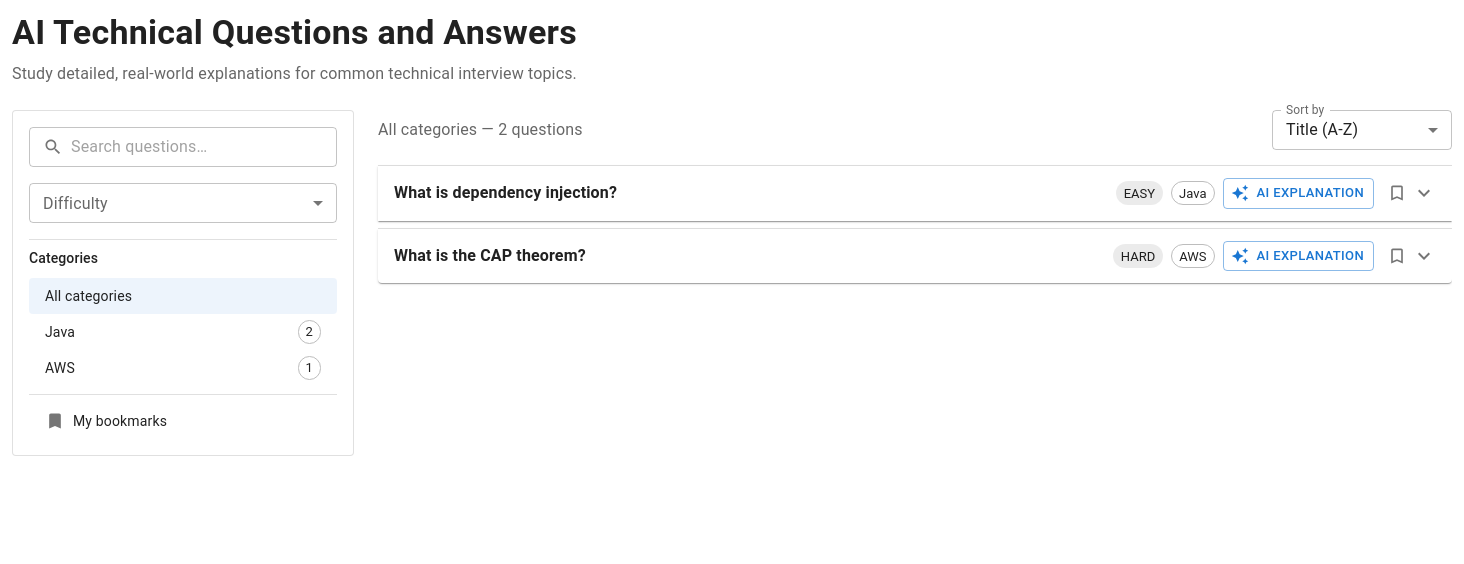
Test: AiQuestionsPage › fetches and reveals the detailed answer when AI Explanation is clicked
Expected: the text "What is dependency injection?" is shown, [394,183,617,202]
What coordinates should you click on to do the following:
click the 1st button "AI Explanation"
I would click on:
 (1298, 193)
Its box is [1222,178,1374,209].
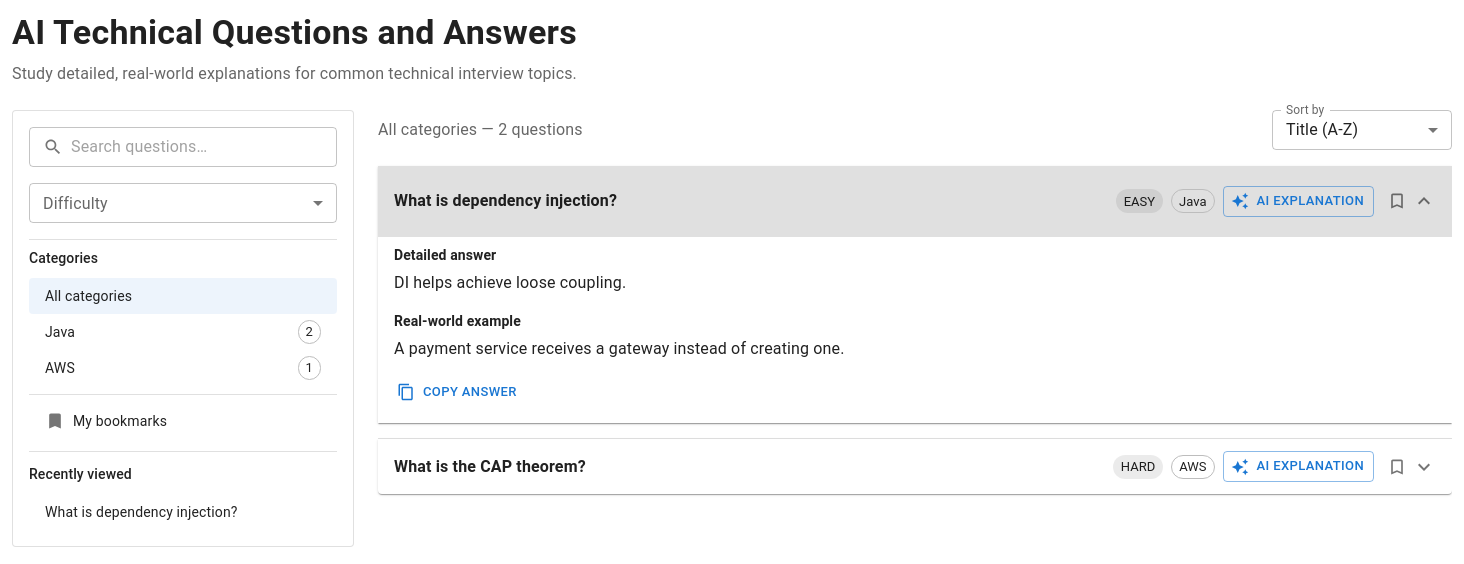
Expected: the text "DI helps achieve loose coupling." is shown, [394,273,626,292]
Expected: the text "A payment service receives a gateway" is shown, [394,339,845,358]
